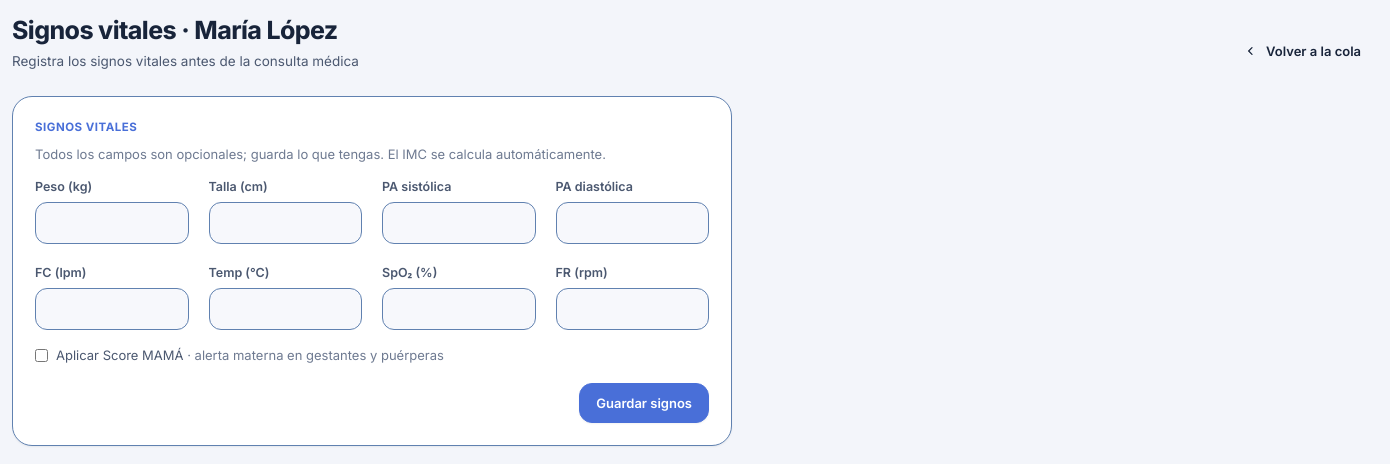
Scenario: TriagePage › confirms what happened instead of bouncing back to the queue
Type "68" into the field labelled "Peso (kg)" at [112, 223], box [35,202,188,244]
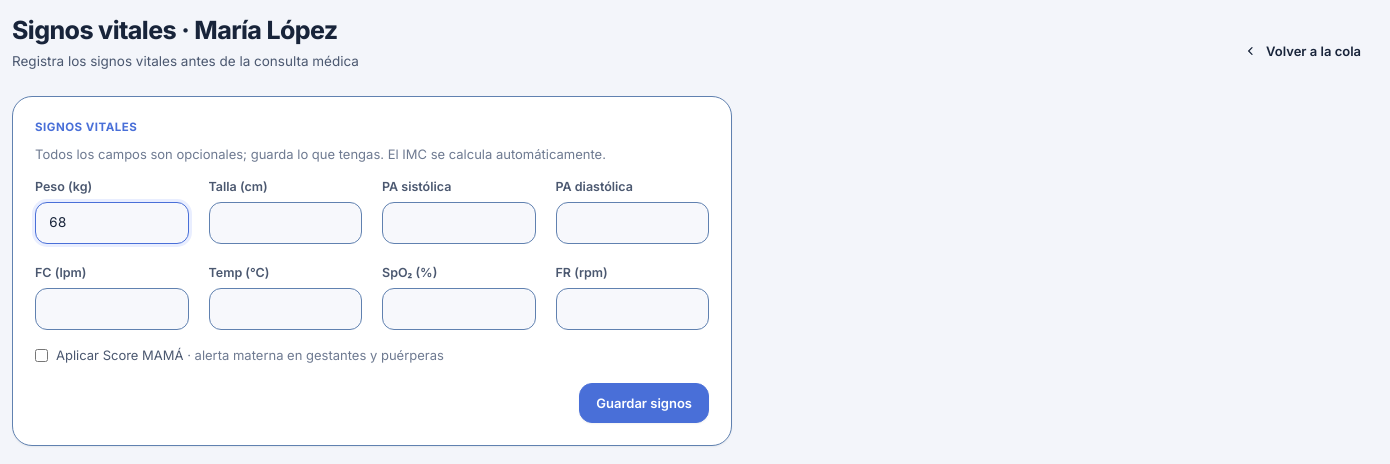
Click the button "Guardar signos" at [644, 403], box [579,382,709,423]
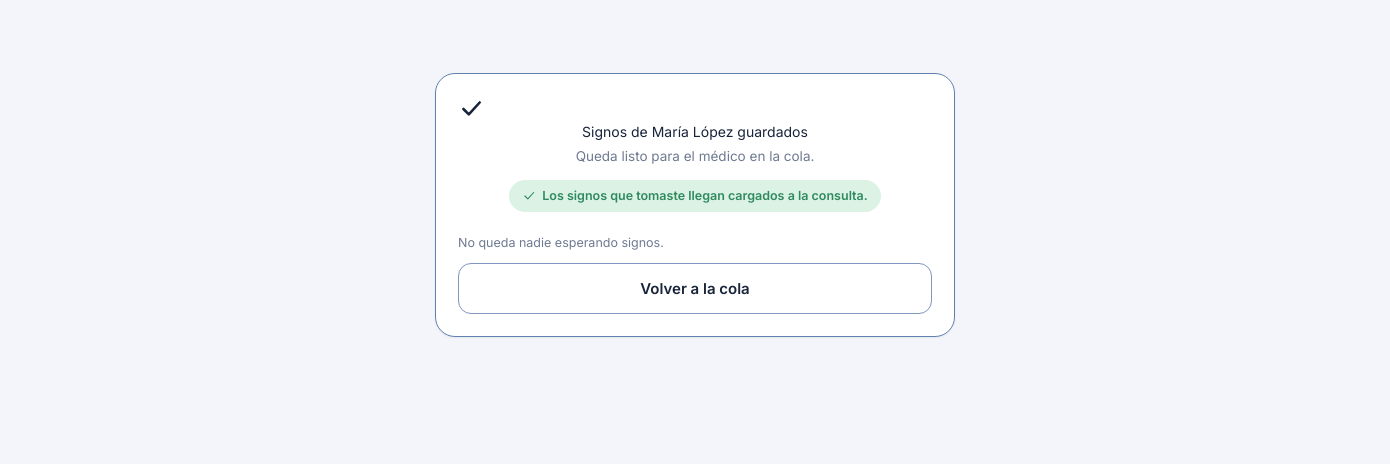
Check: the heading "Signos de María López guardados" is shown, box [582,123,808,140]
Check: the text "Queda listo para el médico en la cola." is shown, box [576,148,814,164]
